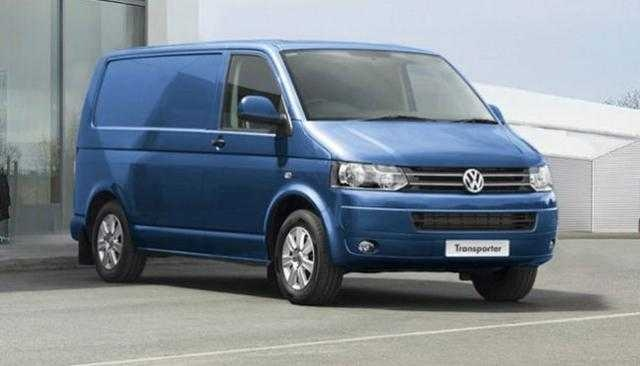van: (69, 36, 559, 306)
